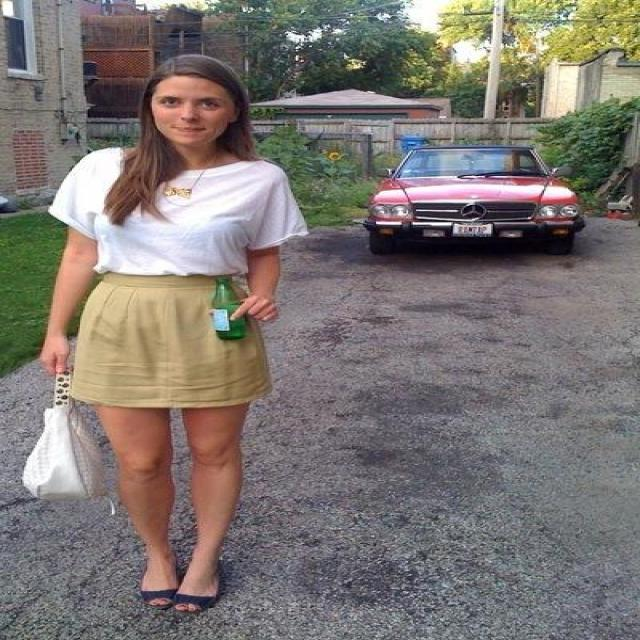bag: (21, 374, 118, 520)
shirt: (48, 147, 307, 274)
shoe: (141, 576, 227, 615)
skirt: (70, 269, 270, 421)
